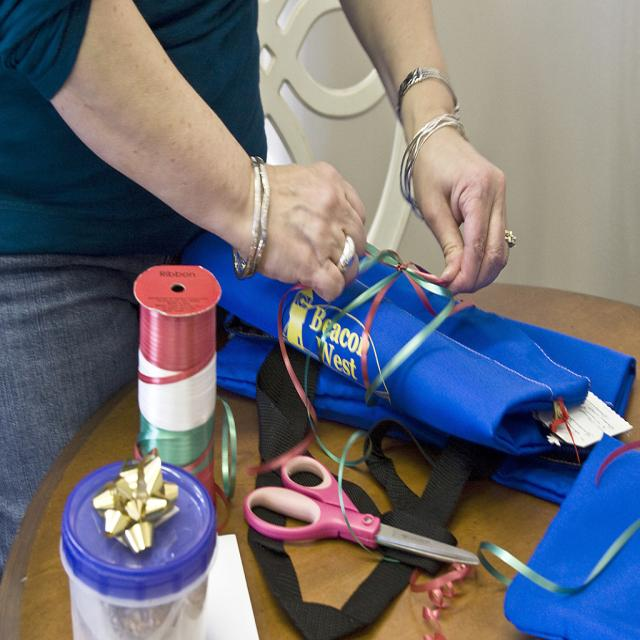scissors: (243, 453, 479, 571)
